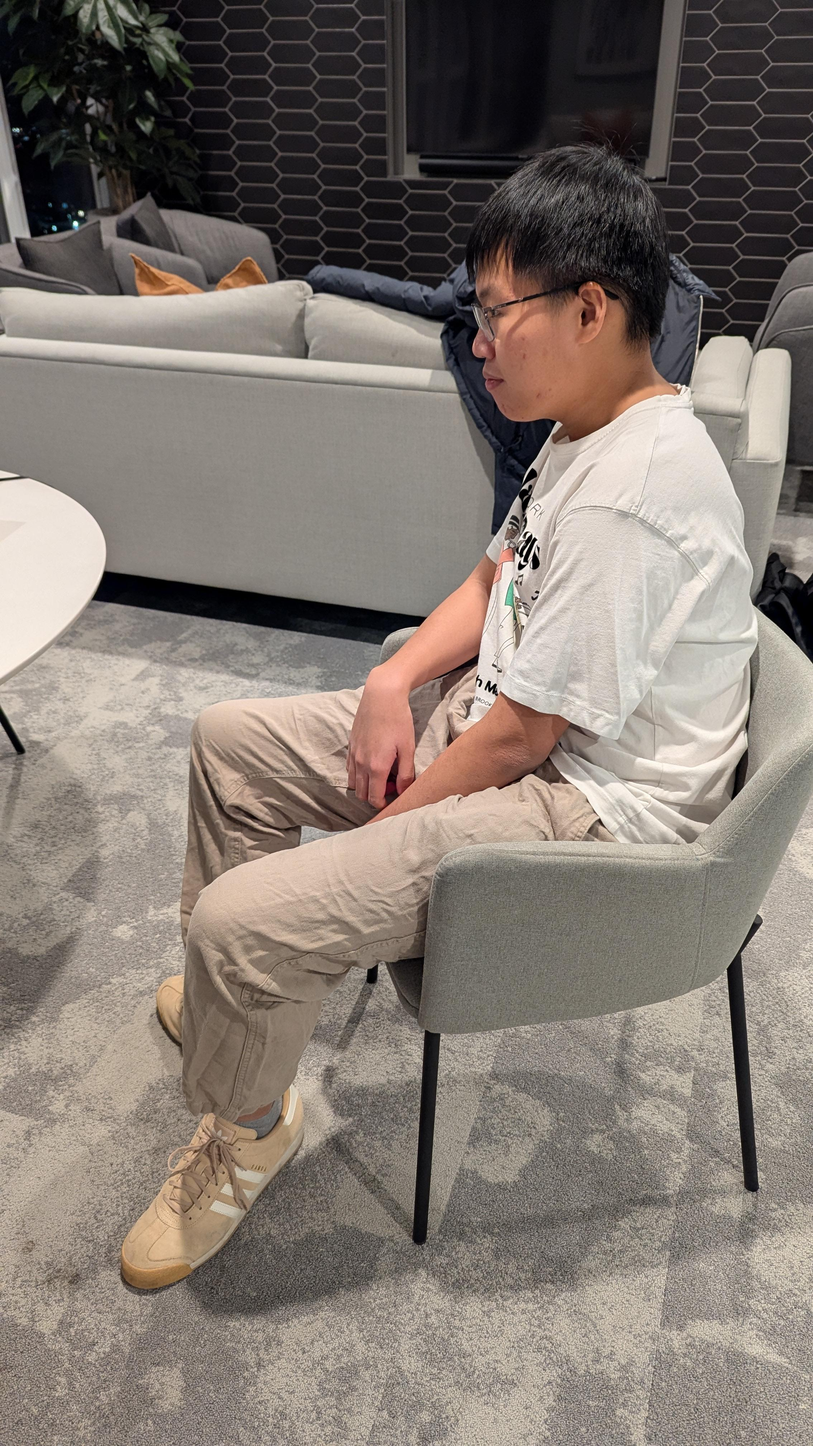BadPosture: (121, 143, 756, 1287)
